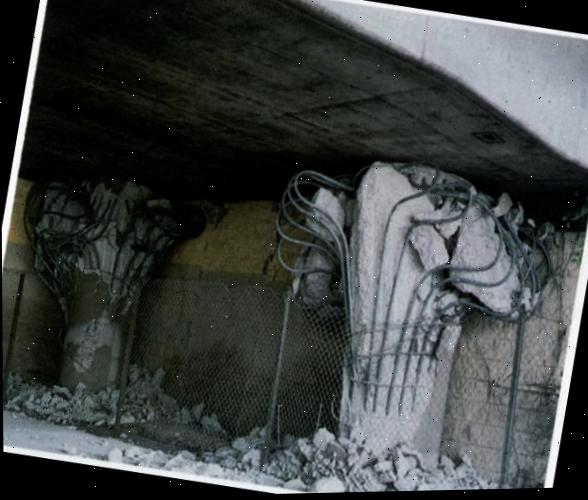spalling: (275, 162, 551, 449), (24, 179, 204, 310), (64, 315, 121, 383)
